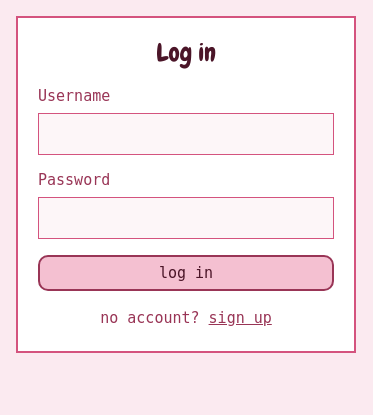
Login › shows the error message when login fails
In the field labelled "Username": x=186, y=134 [38,113,334,155], type "claudia"
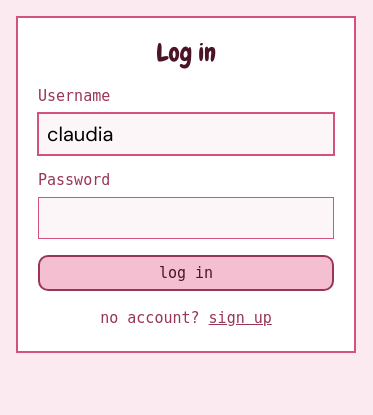
In the password field labelled "Password": x=186, y=218 [38,197,334,239], type "wrong"
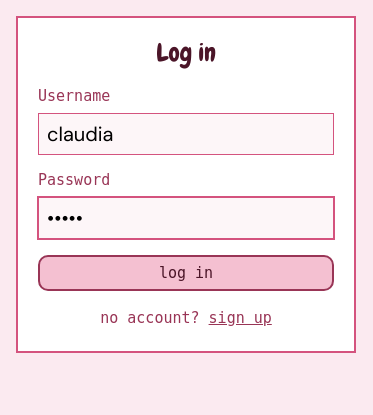
Click the button "log in": x=186, y=273 [38,255,334,291]
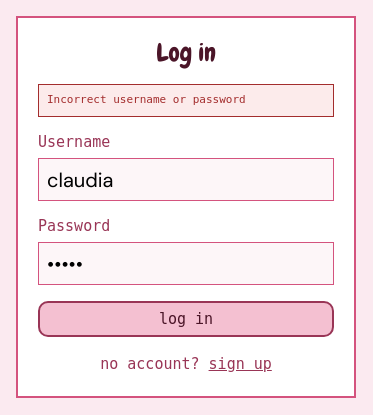
Result: the text "Incorrect username or password" is shown at [38,84,334,117]
